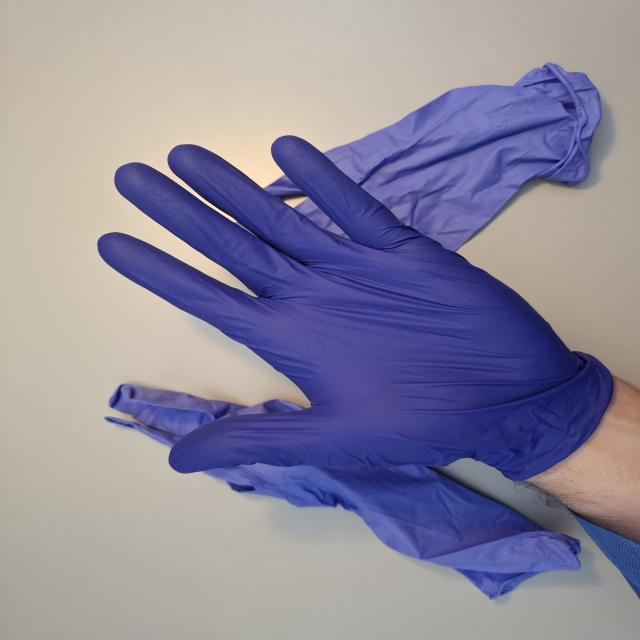glove_on: (95, 133, 598, 480)
